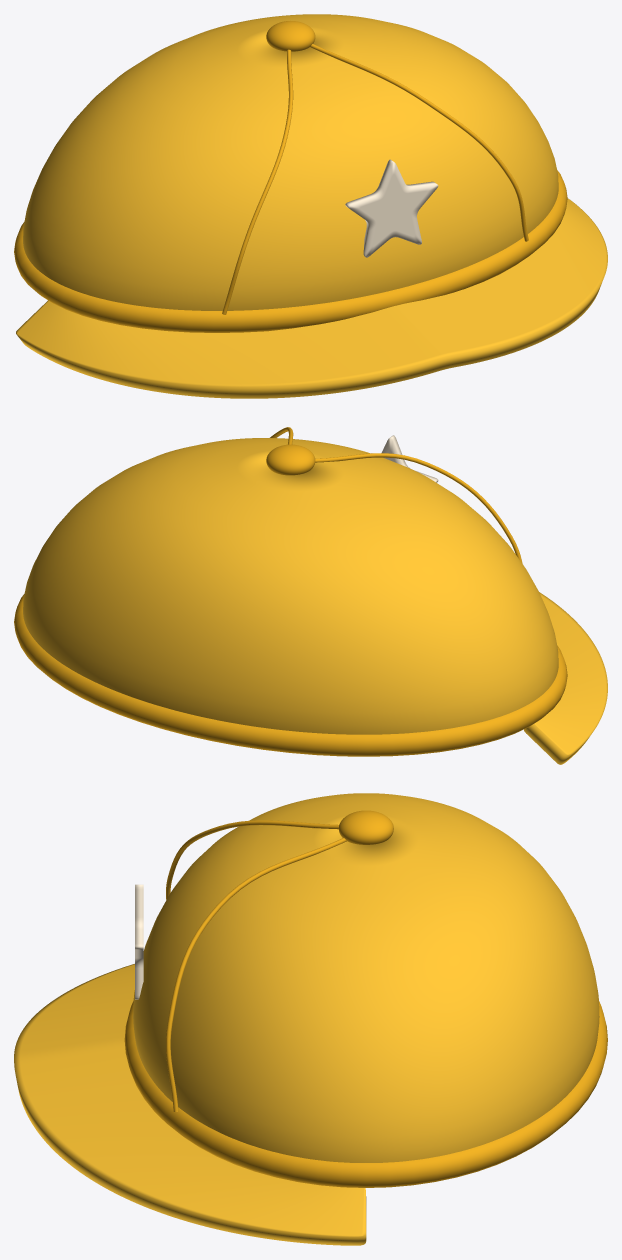
Rendered from star_cap.glb.
The picture shows the model from 3 angles, top to bottom: view 1: azimuth 30°, elevation 25°; view 2: azimuth 150°, elevation 25°; view 3: azimuth 270°, elevation 25°; orthographic projection. The views are drawn at different scales.
Visible parts, largest first — view 1: six_panel_cap, curved_baseball_peak, cap_inner_band, cap_star, cap_panel_stitch.001, cap_panel_stitch, cap_top_button; view 2: six_panel_cap, cap_inner_band, curved_baseball_peak, cap_top_button, cap_panel_stitch; view 3: six_panel_cap, curved_baseball_peak, cap_inner_band, cap_panel_stitch.001, cap_top_button, cap_panel_stitch, cap_star.
Part boxes in pixels (x1,y1,x2,y2): six_panel_cap: (23,14,558,310); curved_baseball_peak: (16,198,607,398); cap_inner_band: (14,170,567,332); cap_star: (345,159,438,257); cap_panel_stitch.001: (310,44,528,241); cap_panel_stitch: (222,49,293,314); cap_top_button: (266,21,315,51); six_panel_cap: (23,438,558,734); cap_inner_band: (14,594,567,756); curved_baseball_peak: (524,592,607,764); cap_top_button: (266,444,315,475); cap_panel_stitch: (315,453,522,563); six_panel_cap: (133,793,599,1162); curved_baseball_peak: (14,964,366,1245); cap_inner_band: (124,1001,607,1187); cap_panel_stitch.001: (166,838,346,1111); cap_top_button: (338,810,393,844); cap_panel_stitch: (166,820,338,899); cap_star: (135,884,143,999).
Size of the model in its own units: 0.8193 by 0.357 by 0.6779.
